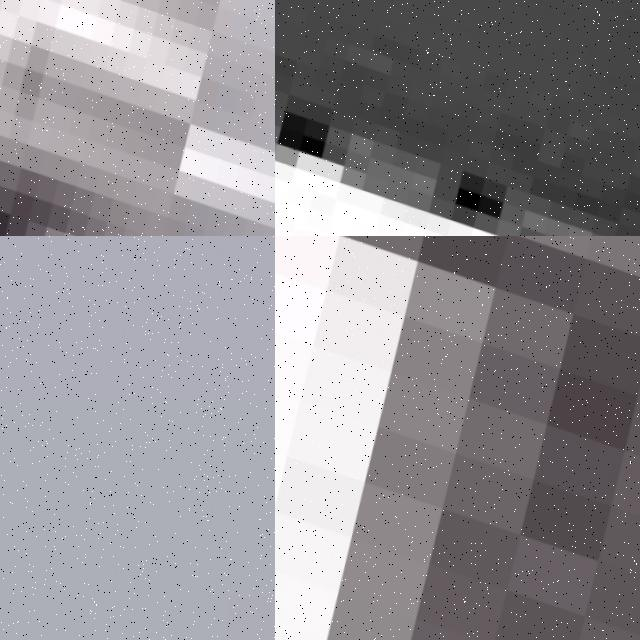0: (0, 0, 275, 236)
drone: (275, 236, 640, 640), (275, 0, 640, 236)
